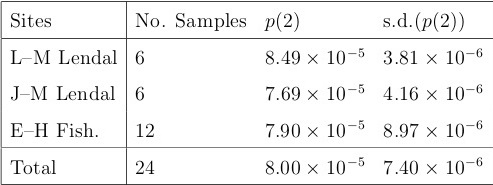column: (9, 1, 118, 184), (381, 1, 483, 185), (174, 1, 248, 185), (262, 1, 302, 185), (326, 1, 366, 185), (134, 1, 166, 184), (306, 1, 319, 185)
row: (1, 118, 493, 140), (1, 12, 493, 33), (1, 155, 493, 176), (1, 46, 493, 66), (1, 82, 493, 102)
